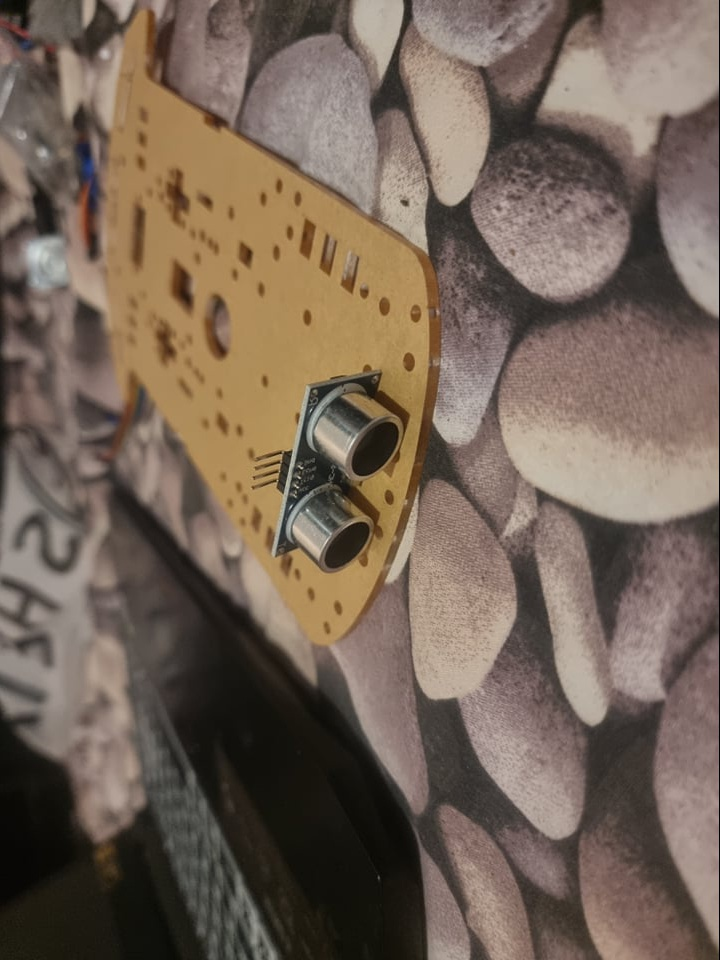SENSOR: (270, 378, 409, 577)
